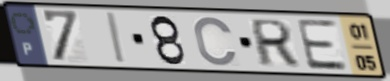7: (42, 8, 82, 64)
8: (148, 14, 187, 66)
C: (192, 15, 240, 68)
E: (293, 17, 351, 72)
I: (106, 11, 129, 66)
R: (250, 18, 301, 68)
